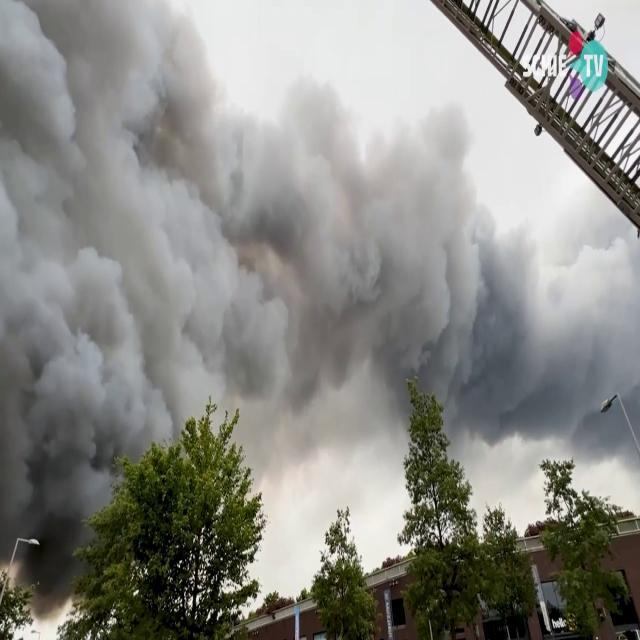Smoke: (0, 5, 634, 498)
